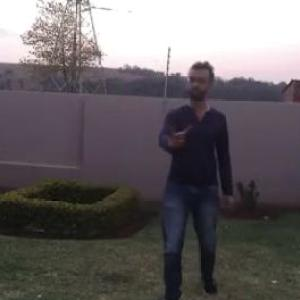takeoff-hand: (163, 117, 193, 150)
